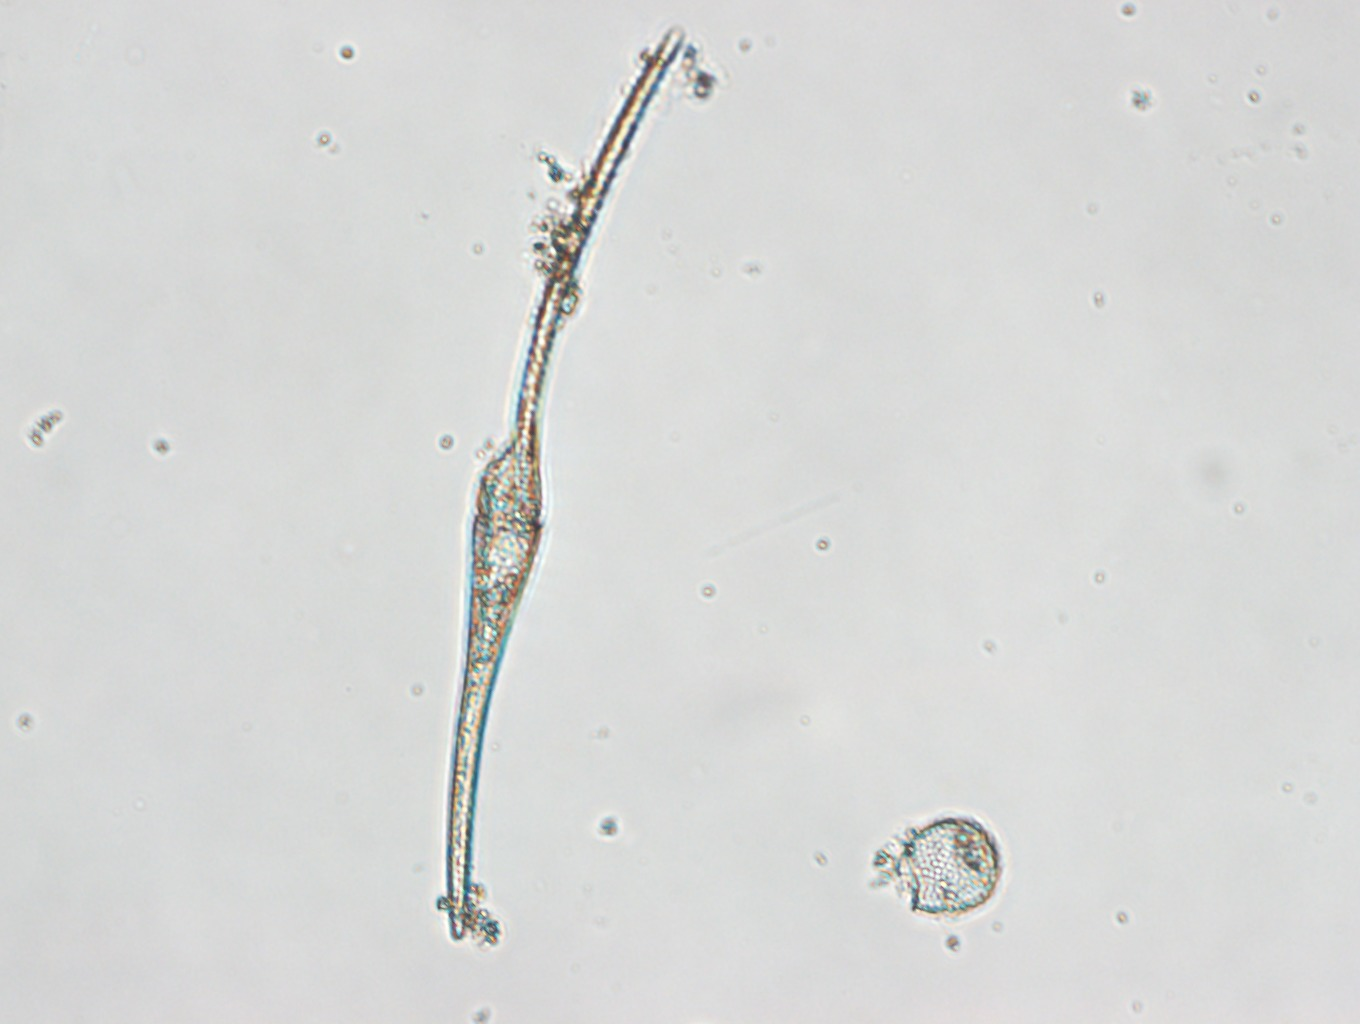ceratium fusus: (446, 25, 684, 941)
